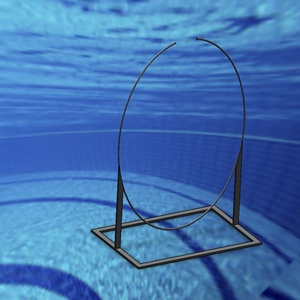circle: (90, 34, 262, 270)
